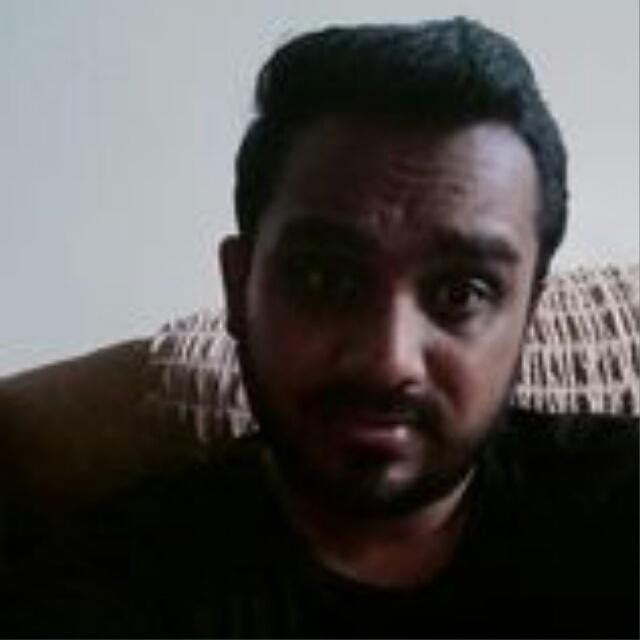Surprised: (213, 123, 605, 557)
